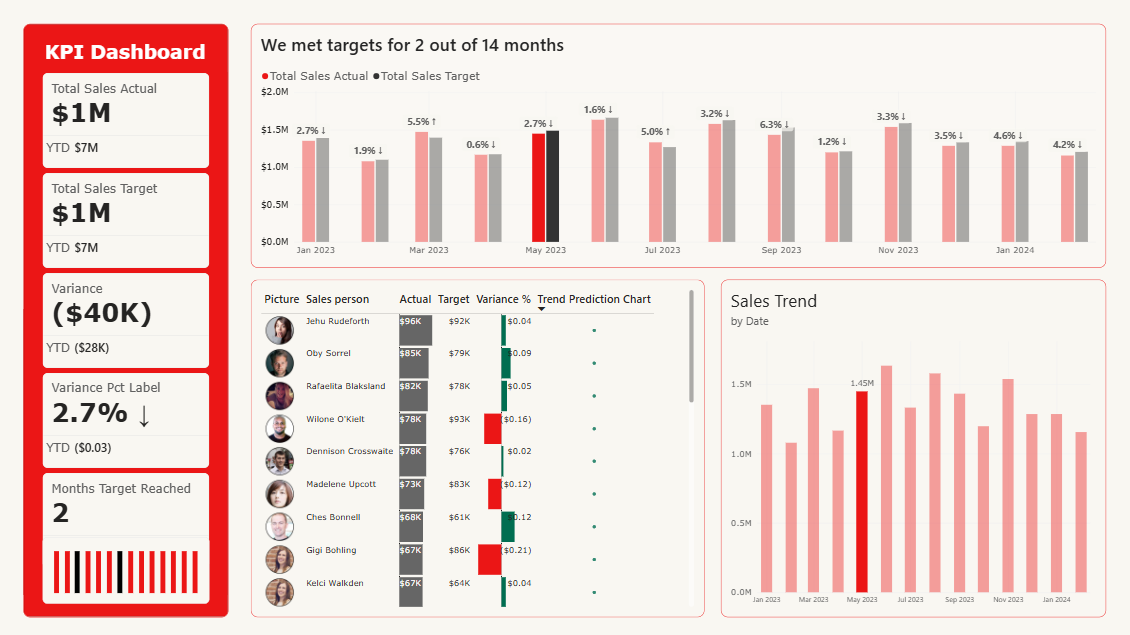

Layout of this report page (visuals, bound fields, positions):
{"tool":"powerbi","page":{"name":"KPI Dashboard","canvas":[1920,1080],"ordinal":0},"visuals":[{"type":"shape","box":[42.5,40,345,997.5],"z":0},{"type":"cardVisual","fields":{"Data":["Actual.TotalSalesActual","Targets.TotalSalesTarget","Actual.Variance","Actual.Variance Pct Label","Actual.MonthsTargetReached"]},"box":[75,122.5,280,835],"z":1000},{"type":"hundredPercentStackedColumnChart","fields":{"Category":["Calendar.Date"],"Y":["Actual.TargetStatus"]},"box":[75,902.5,280,112.5],"z":2000},{"type":"textbox","box":[62.5,67.5,302.5,55],"z":3000},{"type":"lineClusteredColumnComboChart","fields":{"Category":["Calendar.Date"],"Y":["Actual.Total Sales Actual","Targets.Total Sales Target"]},"box":[425,40,1437.5,410],"z":4000},{"type":"tableEx","fields":{"Values":["dimPeople.Picture","dimPeople.Sales person","Actual.Total Sales Actual","Targets.Total Sales Target","Actual.Variance %","SparklineData(Actual.Total Sales Actual_[Calendar.Date])"]},"box":[425,470,762.5,567.5],"z":5000},{"type":"clusteredColumnChart","fields":{"Category":["Calendar.Date"],"Y":["Sum(Actual.Sales)"]},"box":[1215,470,647.5,567.5],"z":5001}]}

Visuals, with their boxes in screenshot pixels (x1, y1, x2, y2), scaled from the page's 1920x1080 canvas onto the 1130x635 screenshot:
shape: {"x1": 25, "y1": 24, "x2": 228, "y2": 610}
cardVisual - Actual.TotalSalesActual x Targets.TotalSalesTarget: {"x1": 44, "y1": 72, "x2": 209, "y2": 563}
hundredPercentStackedColumnChart - Calendar.Date x Actual.TargetStatus: {"x1": 44, "y1": 531, "x2": 209, "y2": 597}
textbox: {"x1": 37, "y1": 40, "x2": 215, "y2": 72}
lineClusteredColumnComboChart - Calendar.Date x Actual.Total Sales Actual: {"x1": 250, "y1": 24, "x2": 1096, "y2": 265}
tableEx - dimPeople.Picture x dimPeople.Sales person: {"x1": 250, "y1": 276, "x2": 699, "y2": 610}
clusteredColumnChart - Calendar.Date x Sum(Actual.Sales): {"x1": 715, "y1": 276, "x2": 1096, "y2": 610}
